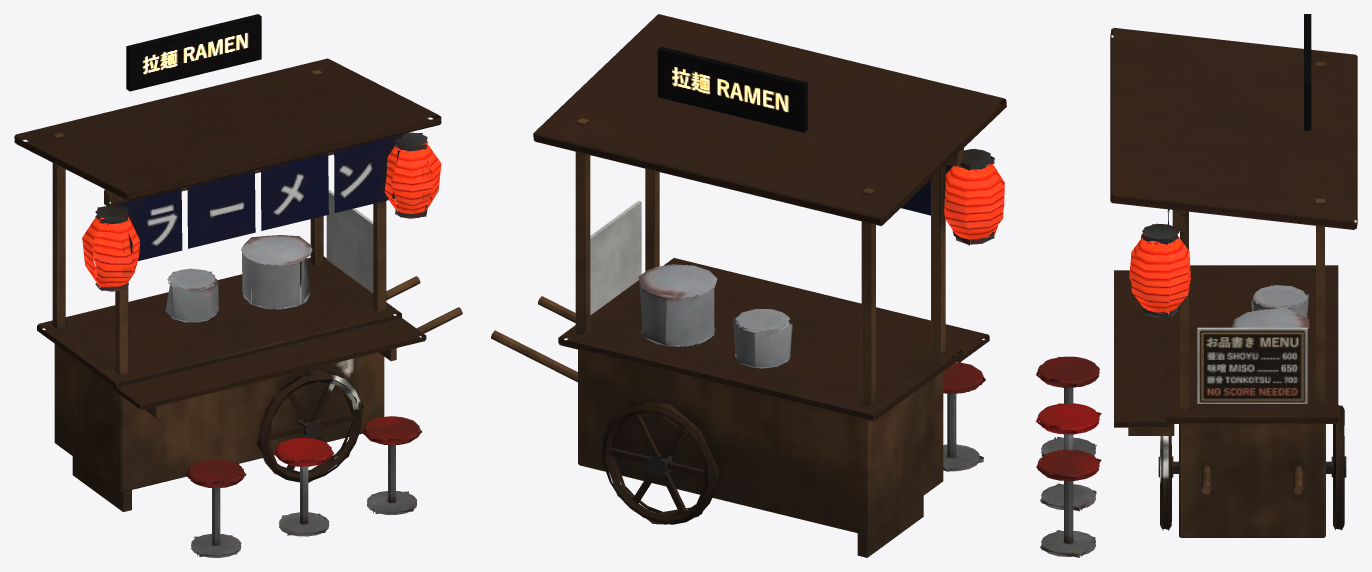
File: ramen_cart_lod1.glb
The picture shows the model from 3 angles, left to right: view 1: azimuth 30°, elevation 25°; view 2: azimuth 150°, elevation 25°; view 3: azimuth 270°, elevation 25°; orthographic projection. The views are drawn at different scales.
Visible parts, largest first — view 1: ramen_cart; view 2: ramen_cart; view 3: ramen_cart.
Part boxes in pixels (x1,y1,x2,y2): ramen_cart: [14, 14, 462, 557]; ramen_cart: [491, 14, 1006, 557]; ramen_cart: [1035, 14, 1357, 557].
Size of what is drawn, in the model's own units: 2.69 by 2.71 by 1.75.
1 material, 1 textured.
